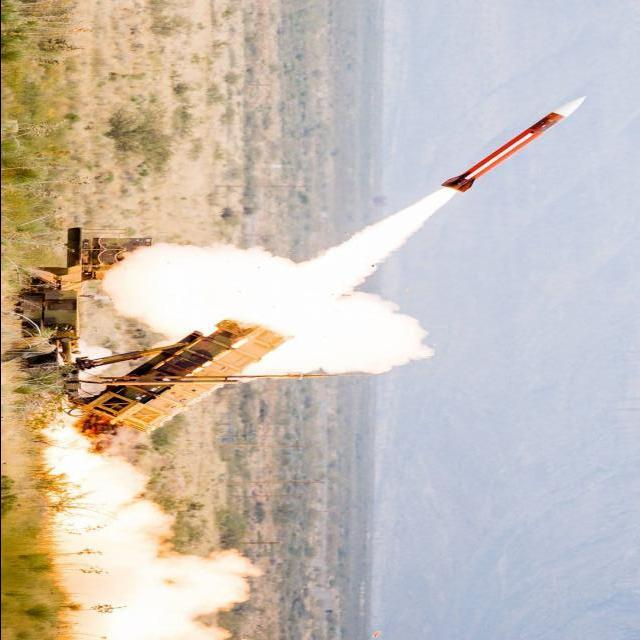Missile: (432, 97, 598, 192)
